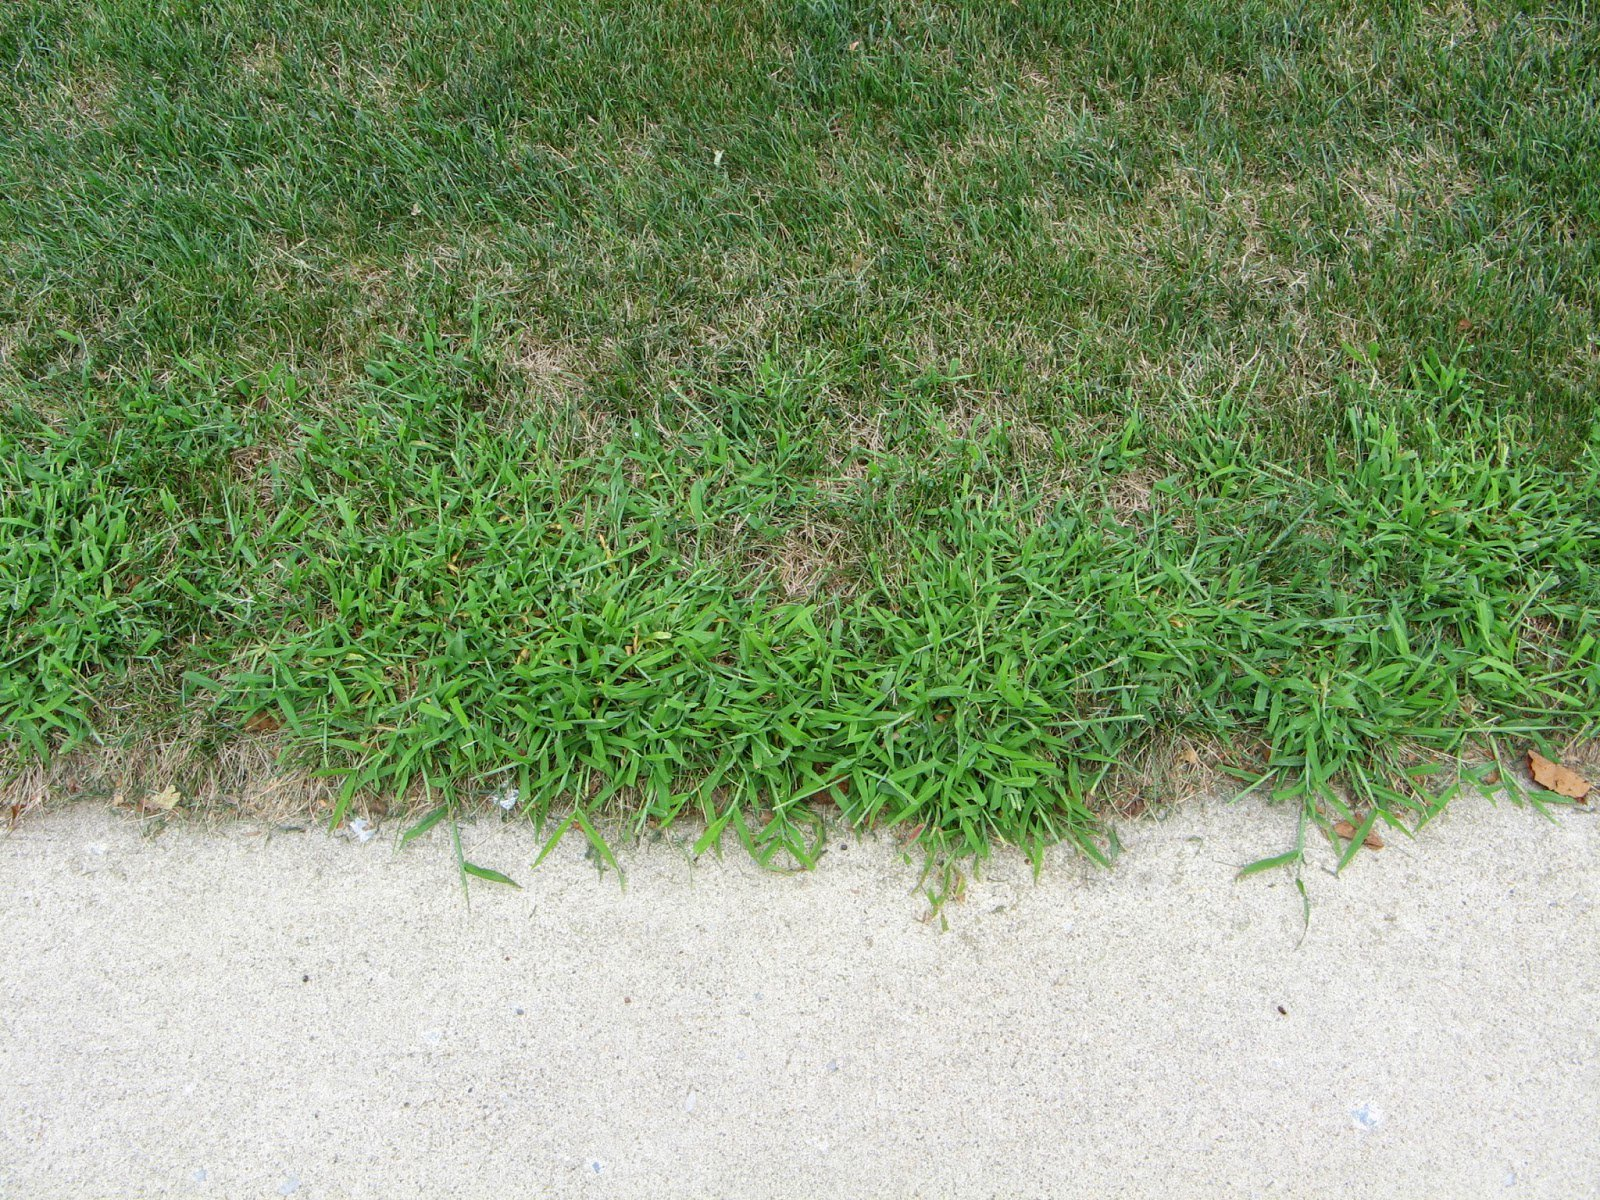crabgrass: (165, 505, 1502, 799)
